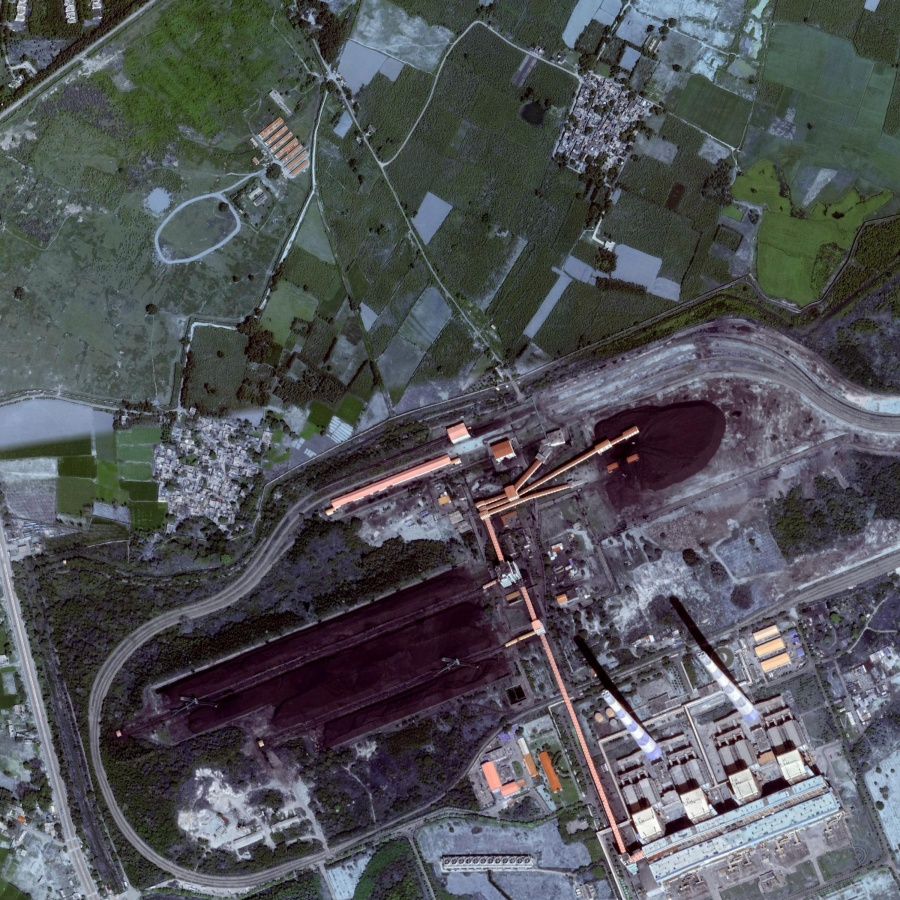PowerPlant: (112, 365, 721, 874), (563, 588, 800, 794)
